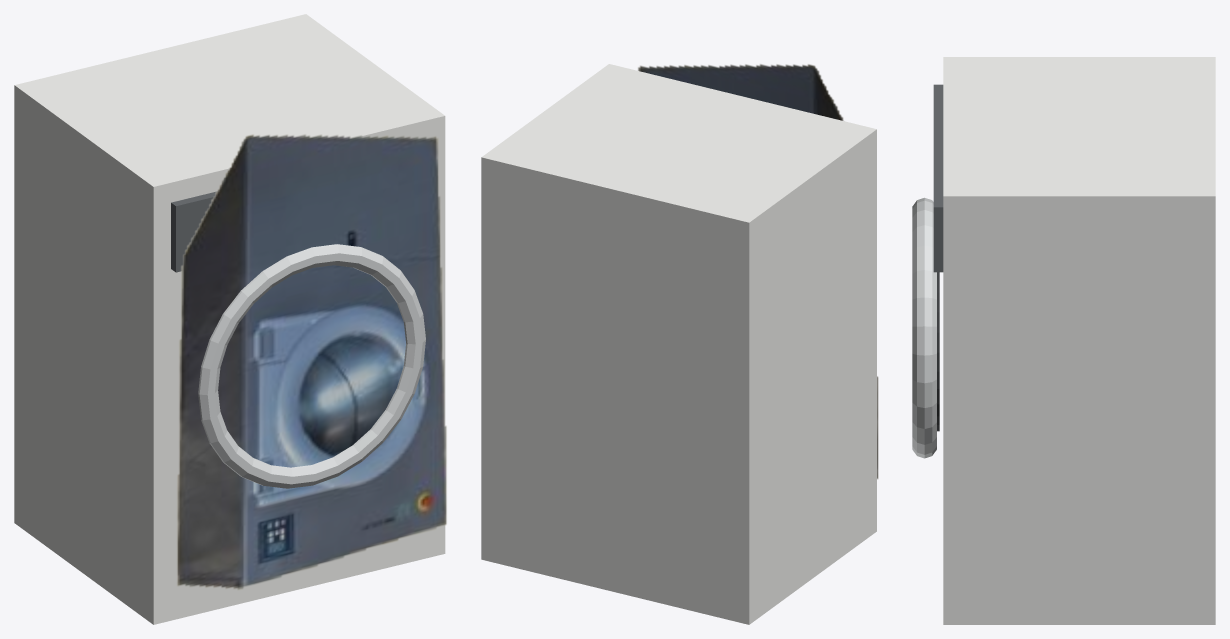
Rendered from rotondi-tumble-dryer.glb.
The picture shows the model from 3 angles, left to right: view 1: azimuth 30°, elevation 25°; view 2: azimuth 150°, elevation 25°; view 3: azimuth 270°, elevation 25°; orthographic projection. The views are drawn at different scales.
Visible parts, largest first — view 1: cabinet, front_decal, door_ring, control_band; view 2: cabinet, front_decal; view 3: cabinet, door_ring, control_band, door_glass.
Part boxes in pixels (x1,y1,x2,y2): cabinet: (14, 14, 445, 624); front_decal: (177, 134, 446, 590); door_ring: (198, 244, 425, 488); control_band: (171, 191, 217, 272); cabinet: (481, 64, 876, 624); front_decal: (638, 64, 878, 479); cabinet: (943, 57, 1215, 624); door_ring: (912, 197, 936, 458); control_band: (933, 84, 943, 272); door_glass: (937, 272, 939, 431).
Size of the model in its own units: 1.15 by 1.83 by 1.06.
5 materials, 1 textured.
